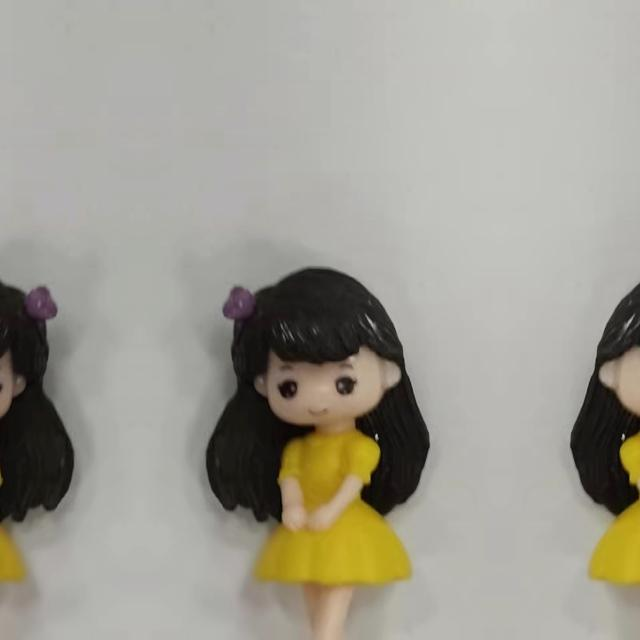woman dress: (265, 408, 433, 640), (567, 408, 640, 640), (0, 408, 15, 640)
woman head: (202, 261, 416, 427), (0, 261, 78, 427), (583, 261, 640, 427)
